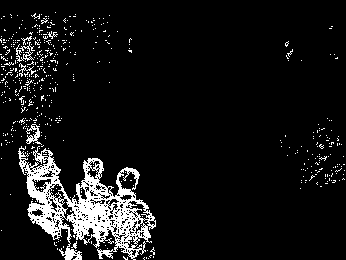person: (26, 168, 82, 257), (75, 157, 118, 256), (114, 166, 159, 256), (20, 123, 61, 183)
